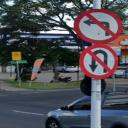NoVirarEsquerda: (74, 8, 123, 44)
NoVirarU: (78, 44, 120, 80)
